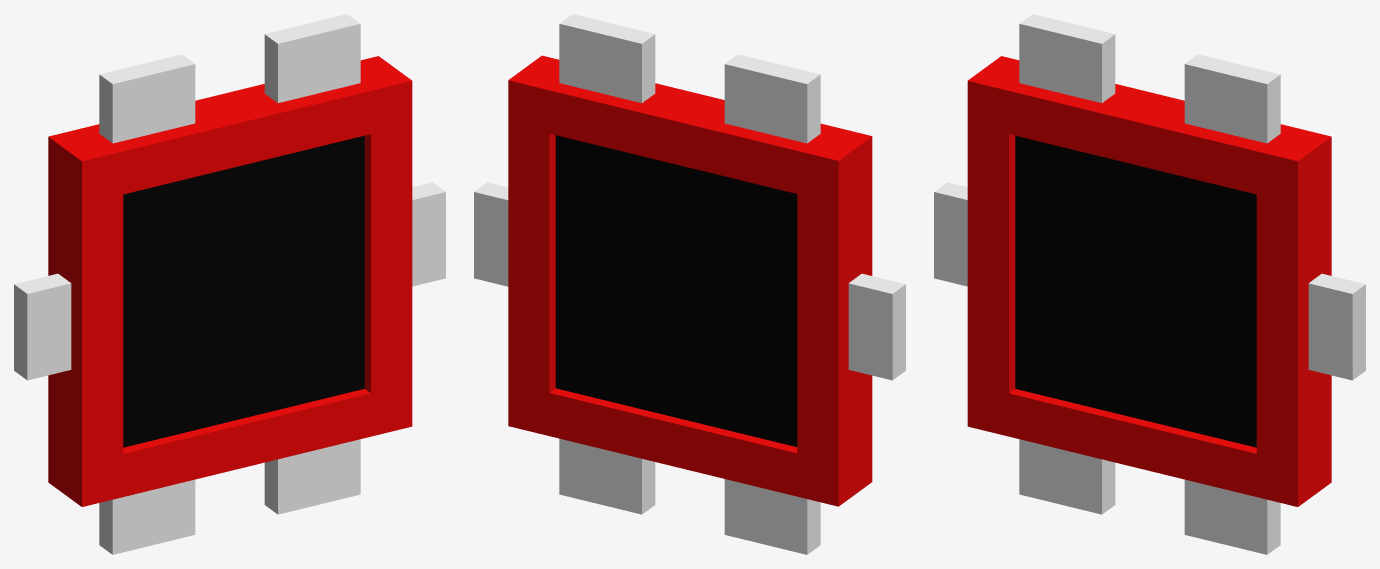
The model's file is TechWeaponPart1.fbx.
3 views of the same model, side by side, from view 1: azimuth 30°, elevation 25°; view 2: azimuth 150°, elevation 25°; view 3: azimuth 330°, elevation 25° (orthographic).
Parts seen in each view (by area): view 1: Cube; view 2: Cube; view 3: Cube.
Boxes of the visible parts, box(x1,y1,x2,y2) form: Cube: box(14, 14, 445, 554); Cube: box(474, 14, 905, 554); Cube: box(934, 14, 1365, 554).
Bounding box in the file's own units: 253 × 272 × 35.47.
